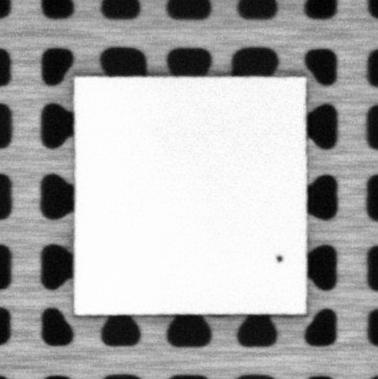DIE_INK: (273, 252, 285, 263)
